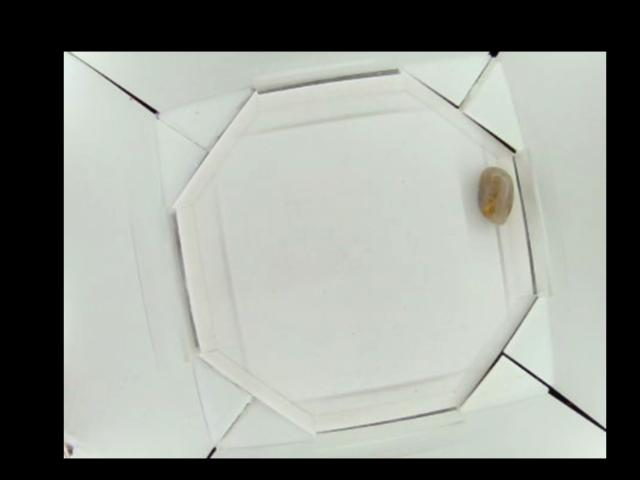Pebble: (477, 166, 512, 226)
